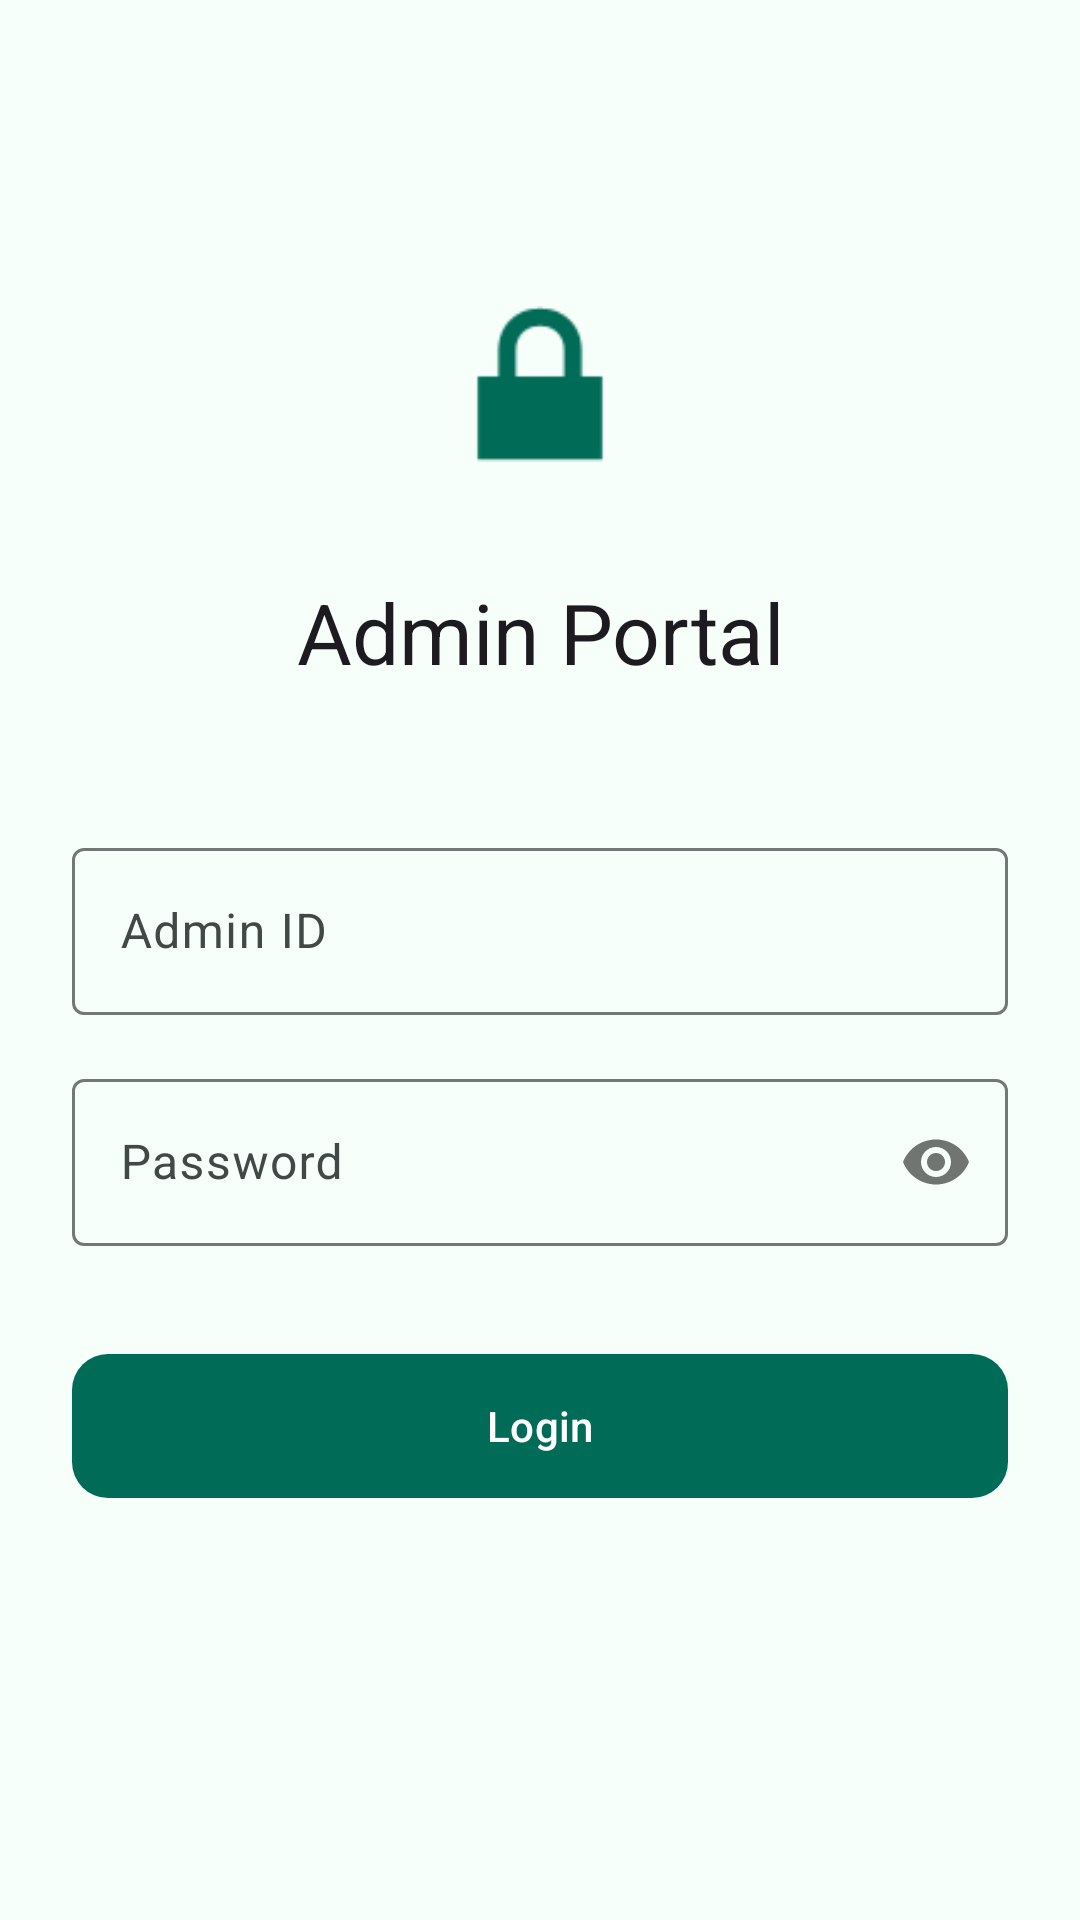

Icon bounding boxes for this 1080x1920 phone screenshot, format region(x1, y1, x2, y2):
lock: region(477, 306, 603, 462)
